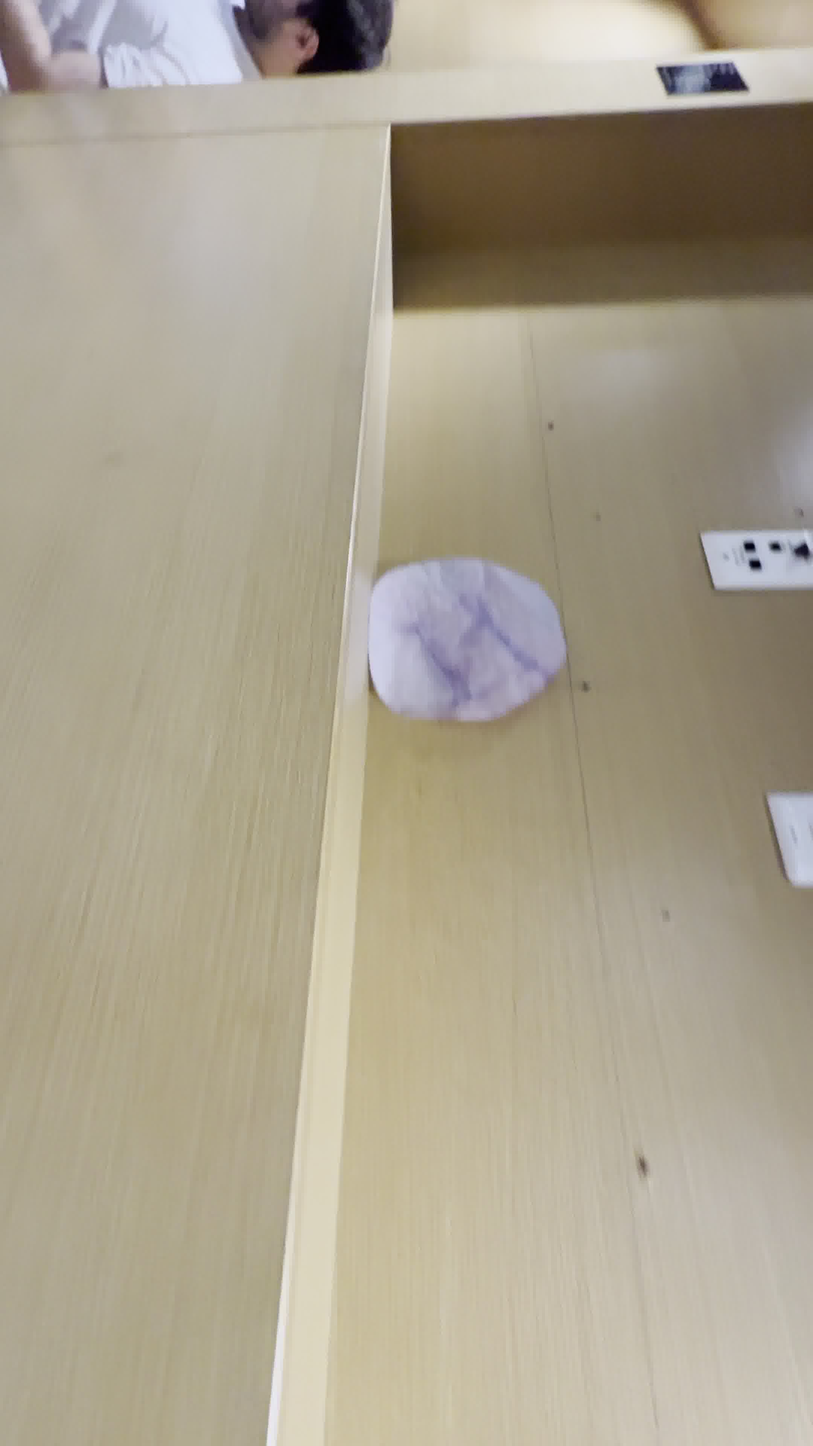Target: (371, 556, 564, 723)
